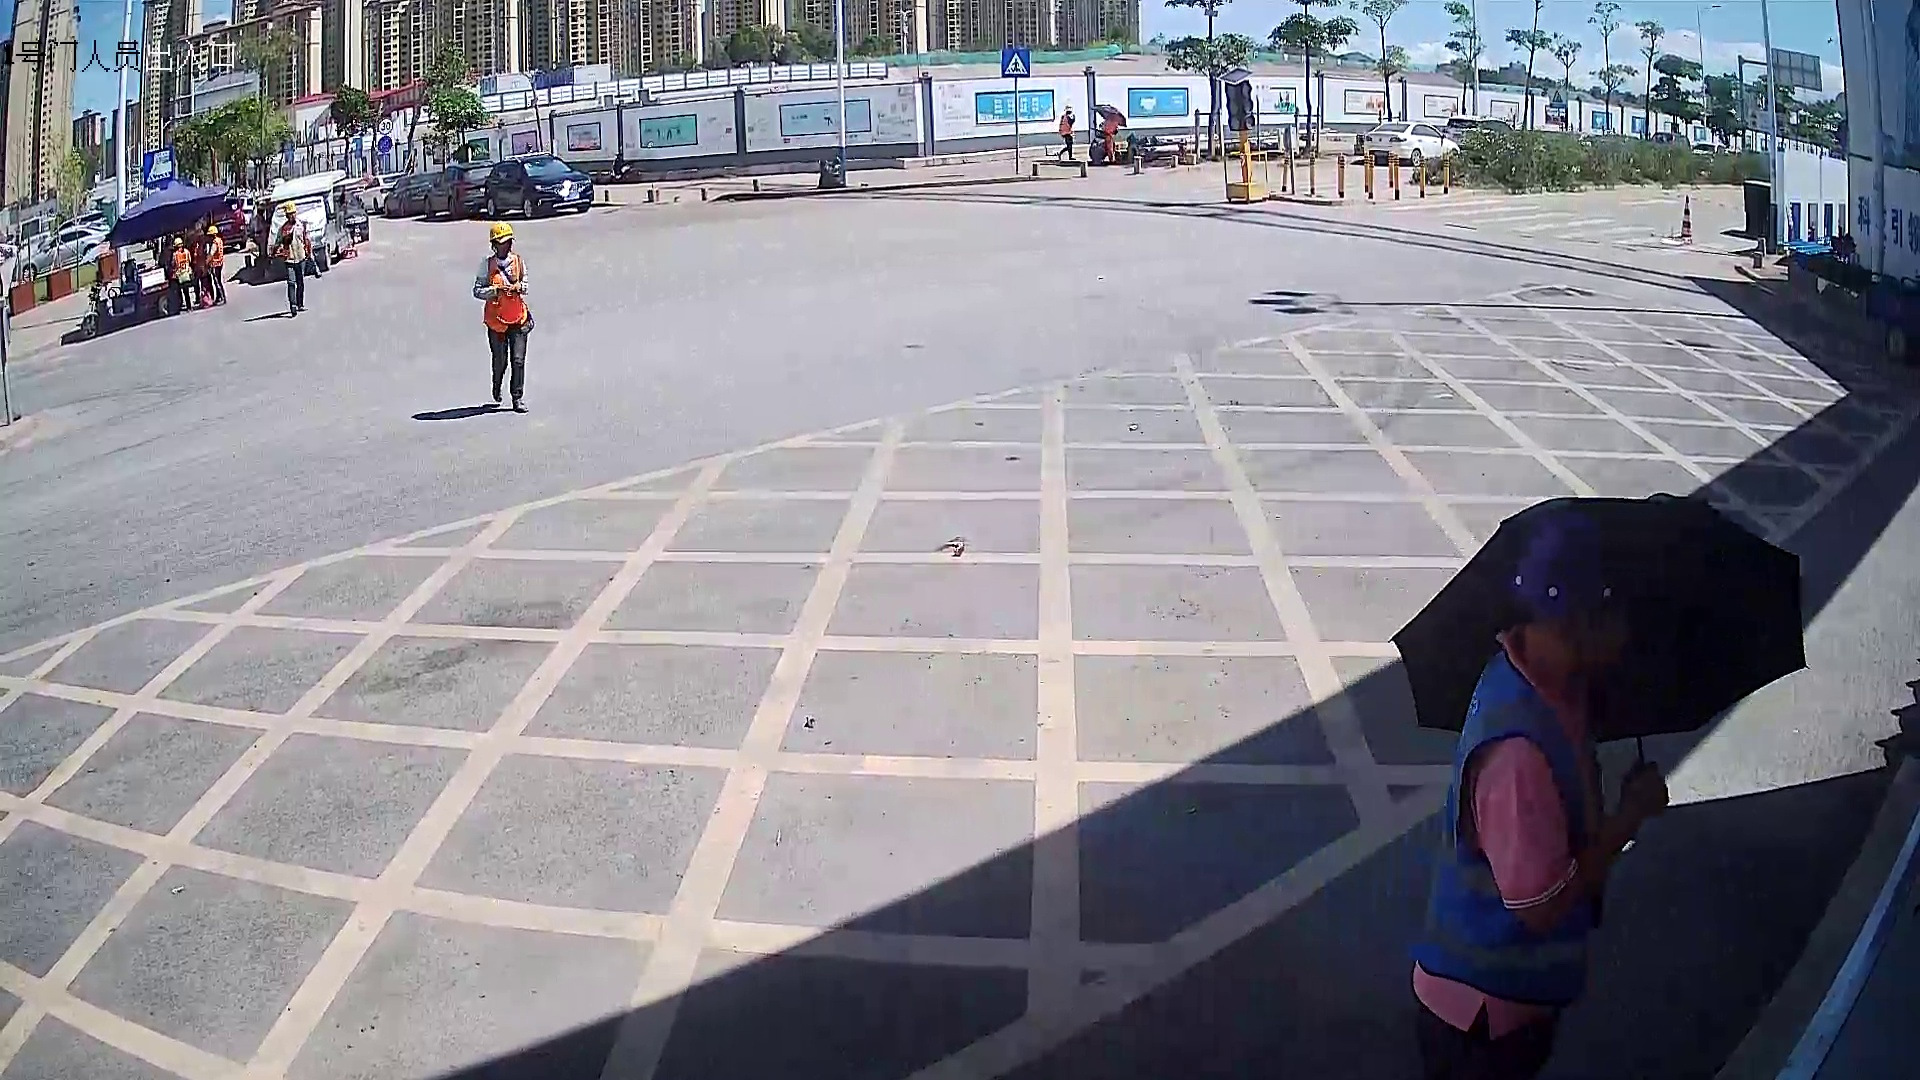person: (1411, 508, 1657, 1080), (472, 216, 534, 415), (268, 200, 315, 318), (204, 224, 229, 307), (170, 233, 195, 314)
reflective_vest: (1412, 647, 1593, 1008), (483, 253, 527, 333), (171, 248, 189, 279), (207, 237, 225, 267)
safety_helmet: (1510, 508, 1655, 671), (483, 216, 518, 257), (283, 199, 298, 224), (206, 224, 219, 239), (173, 235, 184, 250)
